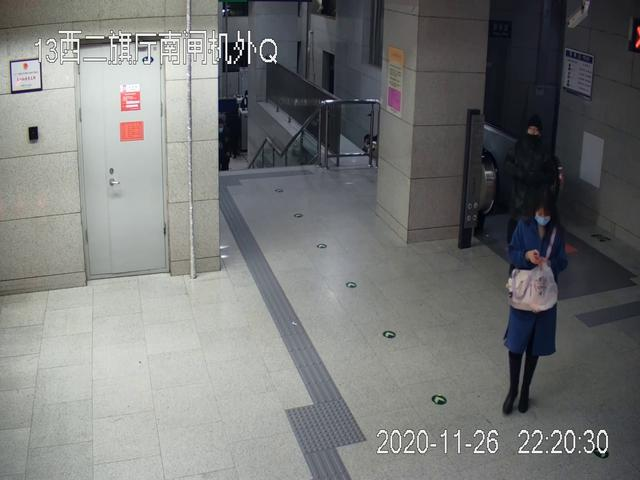person: (501, 192, 566, 415), (494, 116, 563, 253)
